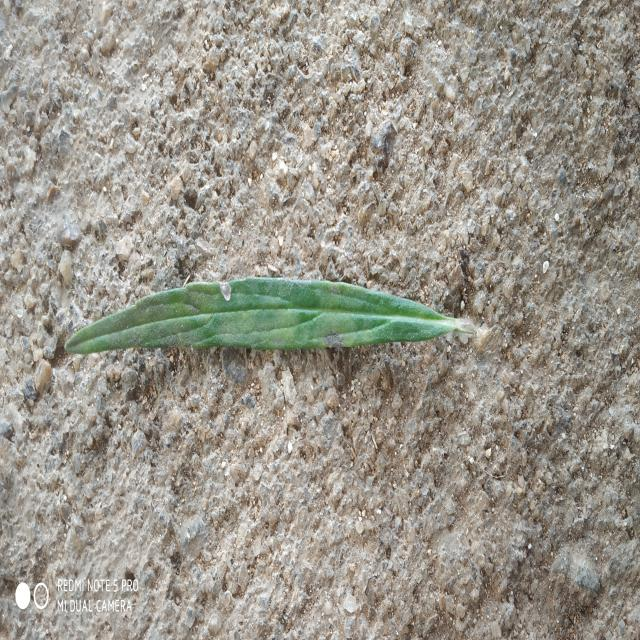defectedthambe: (66, 278, 376, 353)
thambe: (65, 278, 476, 353)
